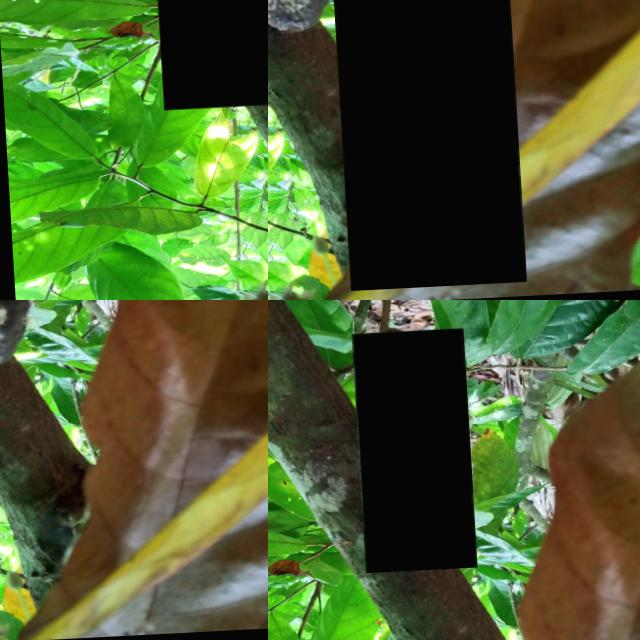Fitoftora: (325, 0, 519, 293)
Monilia: (350, 332, 473, 576)
Sana: (192, 369, 268, 464), (39, 300, 118, 377)
